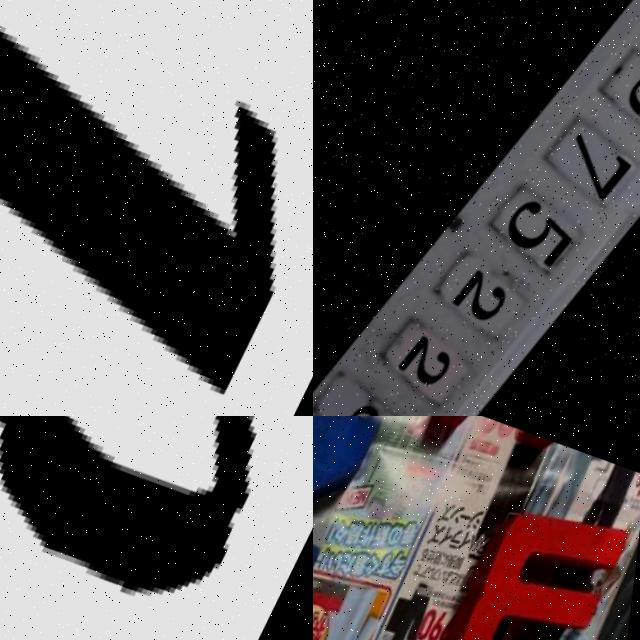0: (598, 44, 640, 150)
1: (0, 0, 313, 415)
2: (0, 416, 313, 640), (433, 247, 558, 350), (384, 312, 502, 411)
5: (487, 178, 615, 287)
7: (541, 113, 640, 218)
8: (331, 382, 444, 416)
N: (313, 416, 389, 612)
W: (430, 494, 639, 640)
